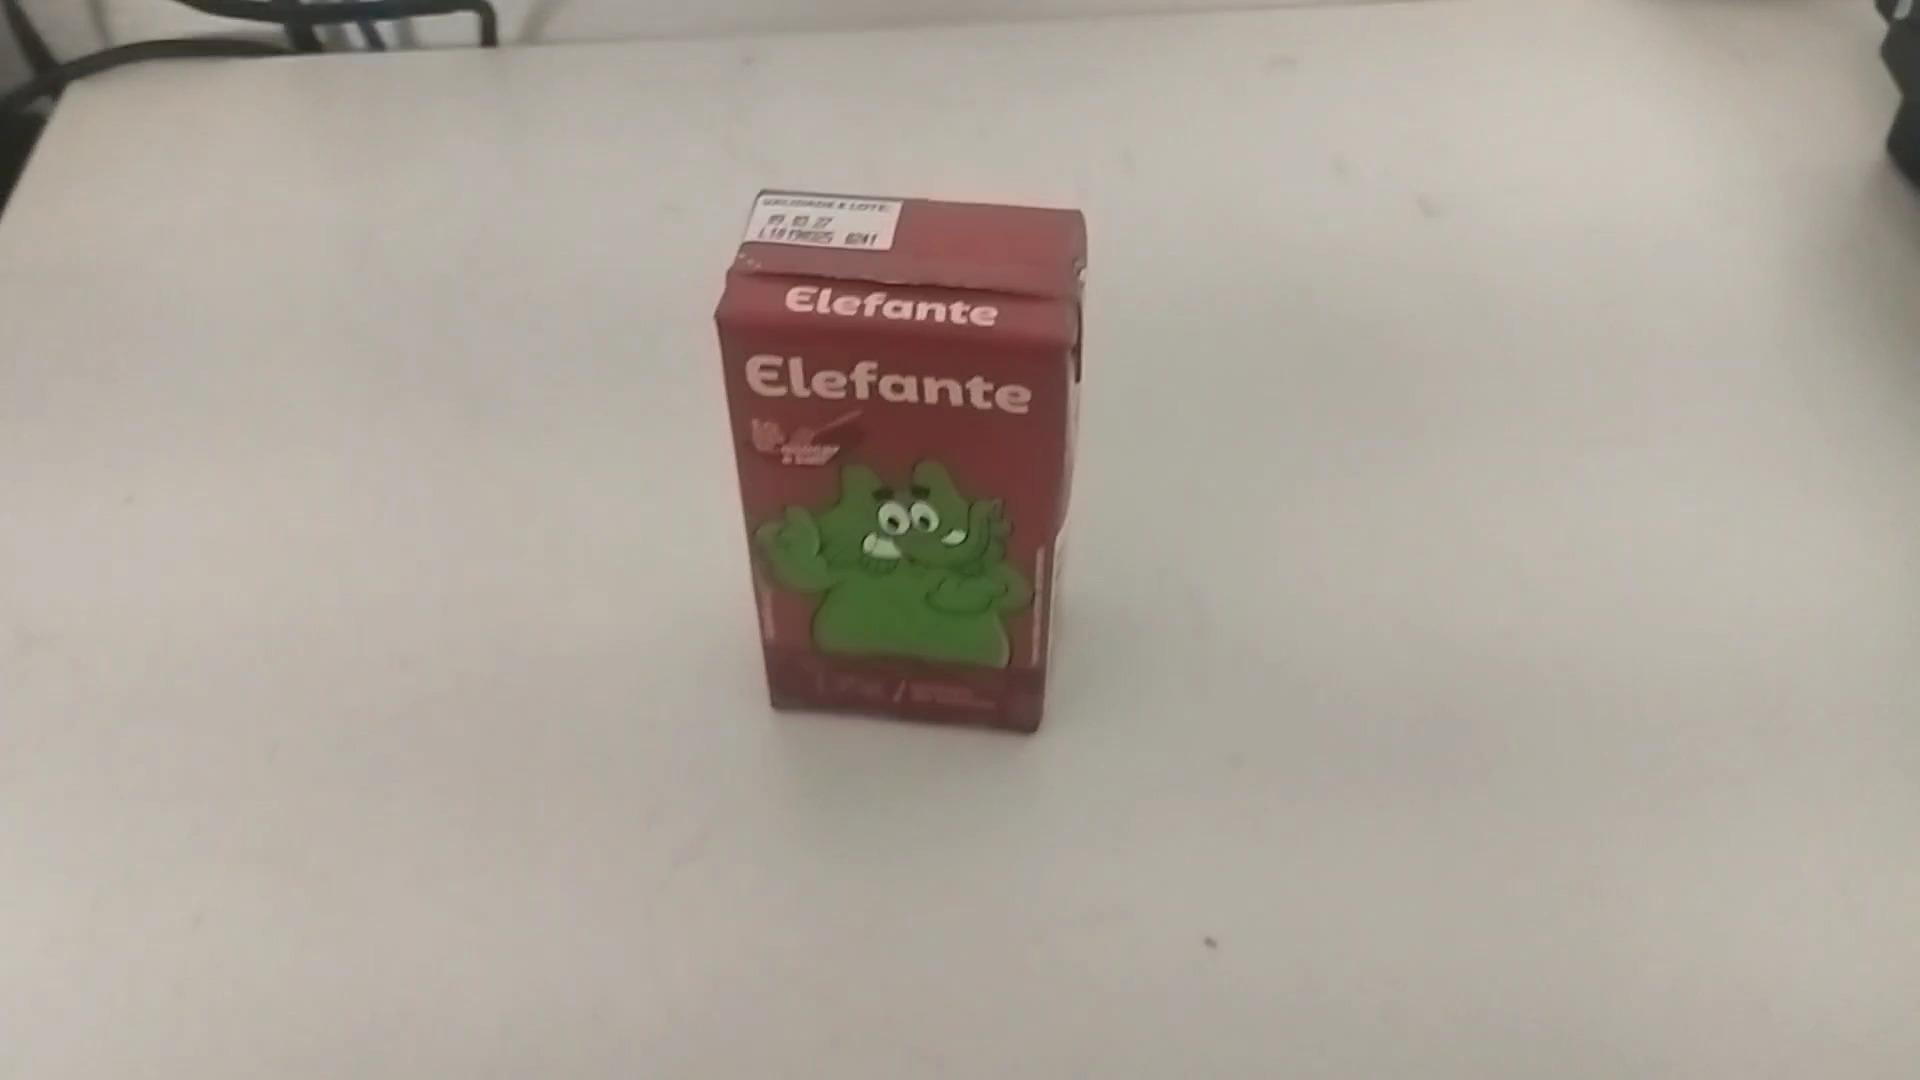tomate: (711, 174, 1102, 740)
